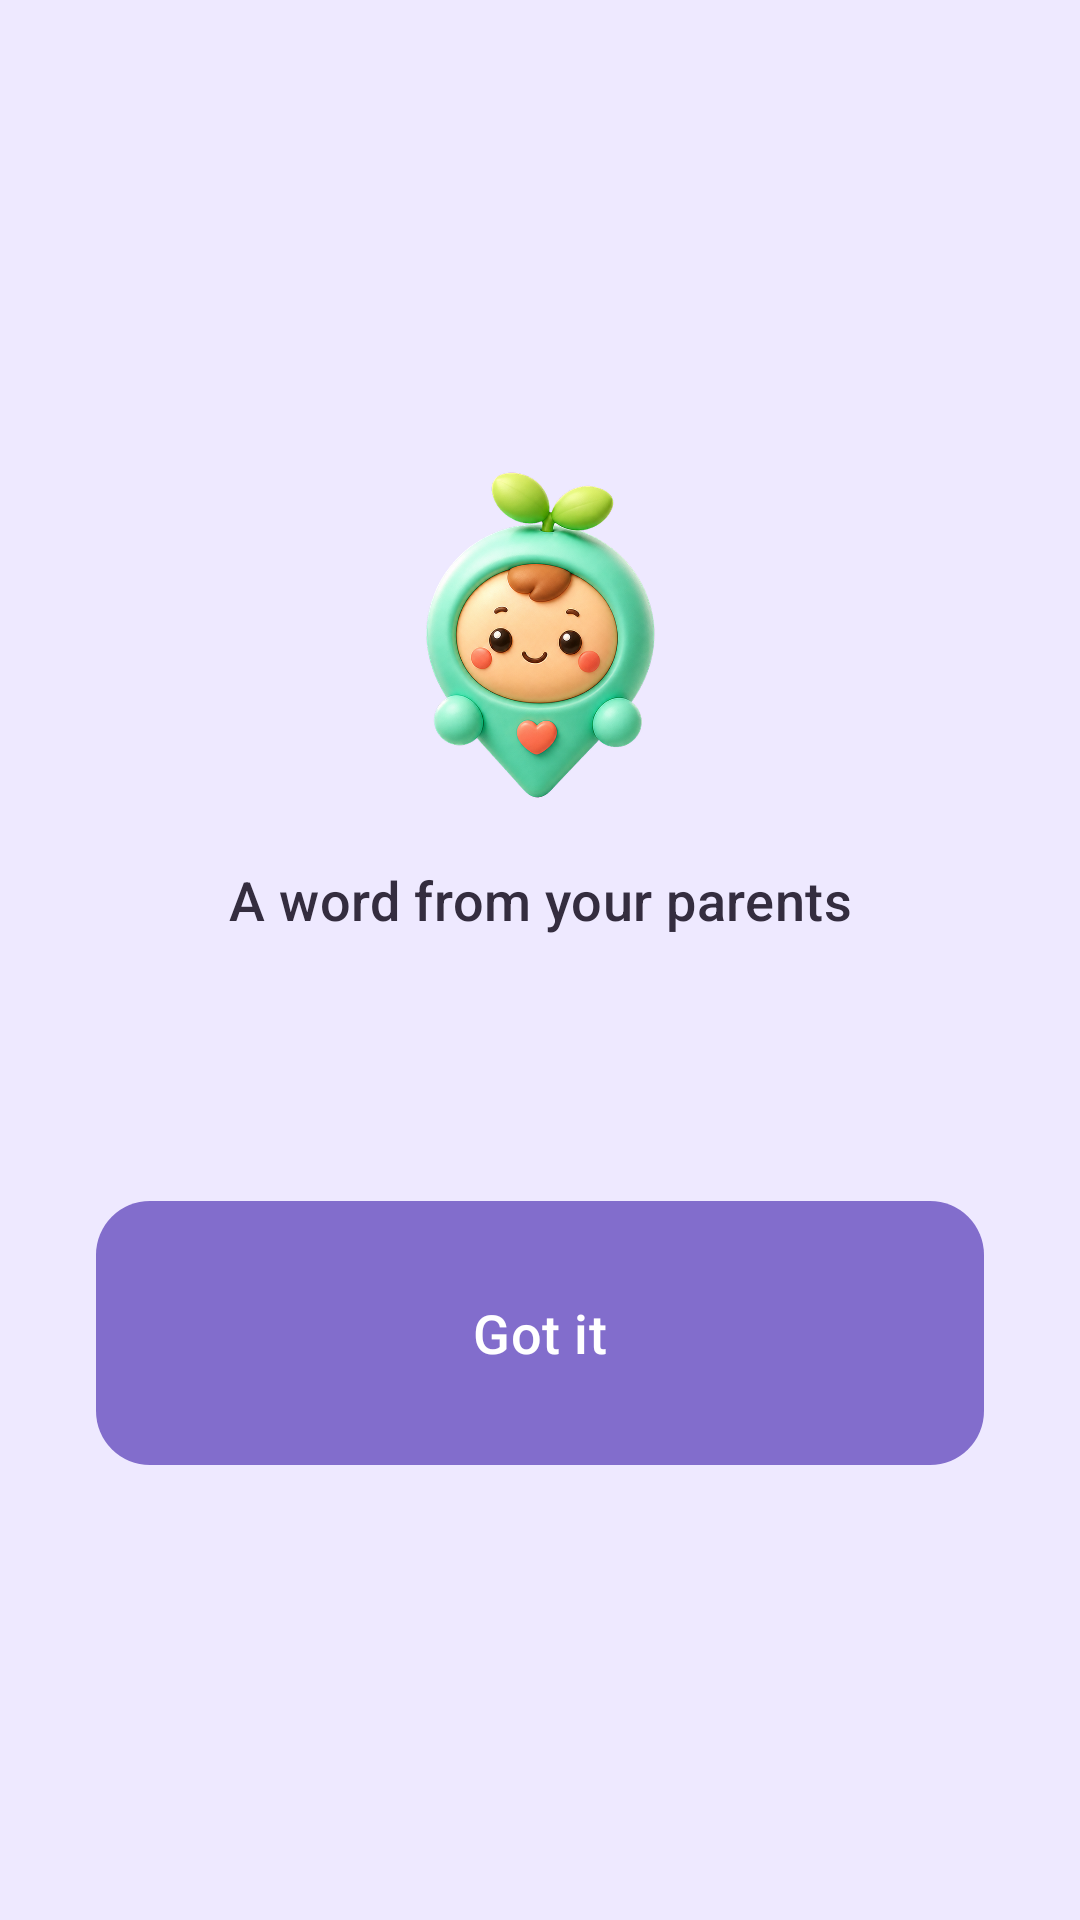

Icons on this 1080 x 1920 Android screen, each with the point to tap as [x,y]:
mascot 3d: [540,635]
